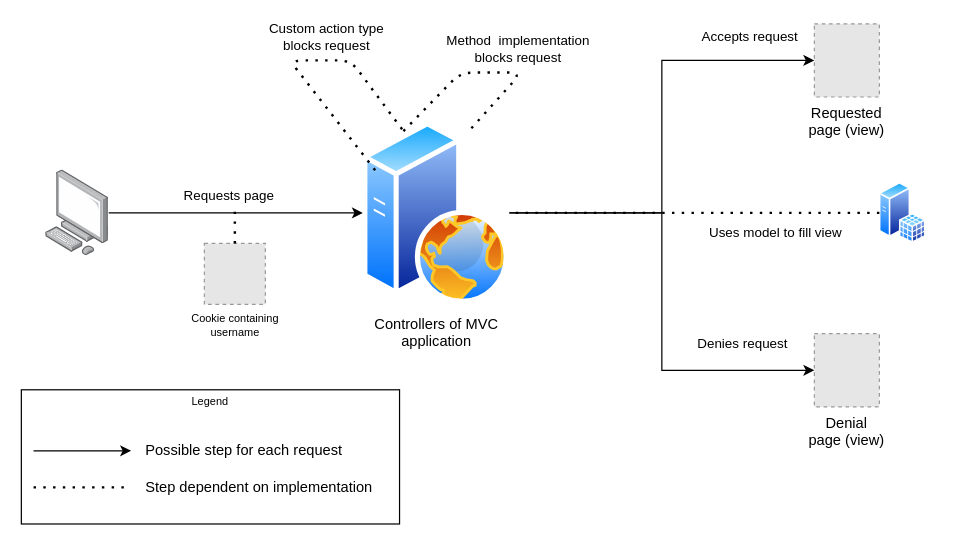
This 975x545 diagram has some shape labels left out. Grey dashed boxes stand in for pictures. Each missing label, with the box of its shape:
End user: (45, 170, 108, 255)
Models of MVC application: (879, 182, 926, 243)
